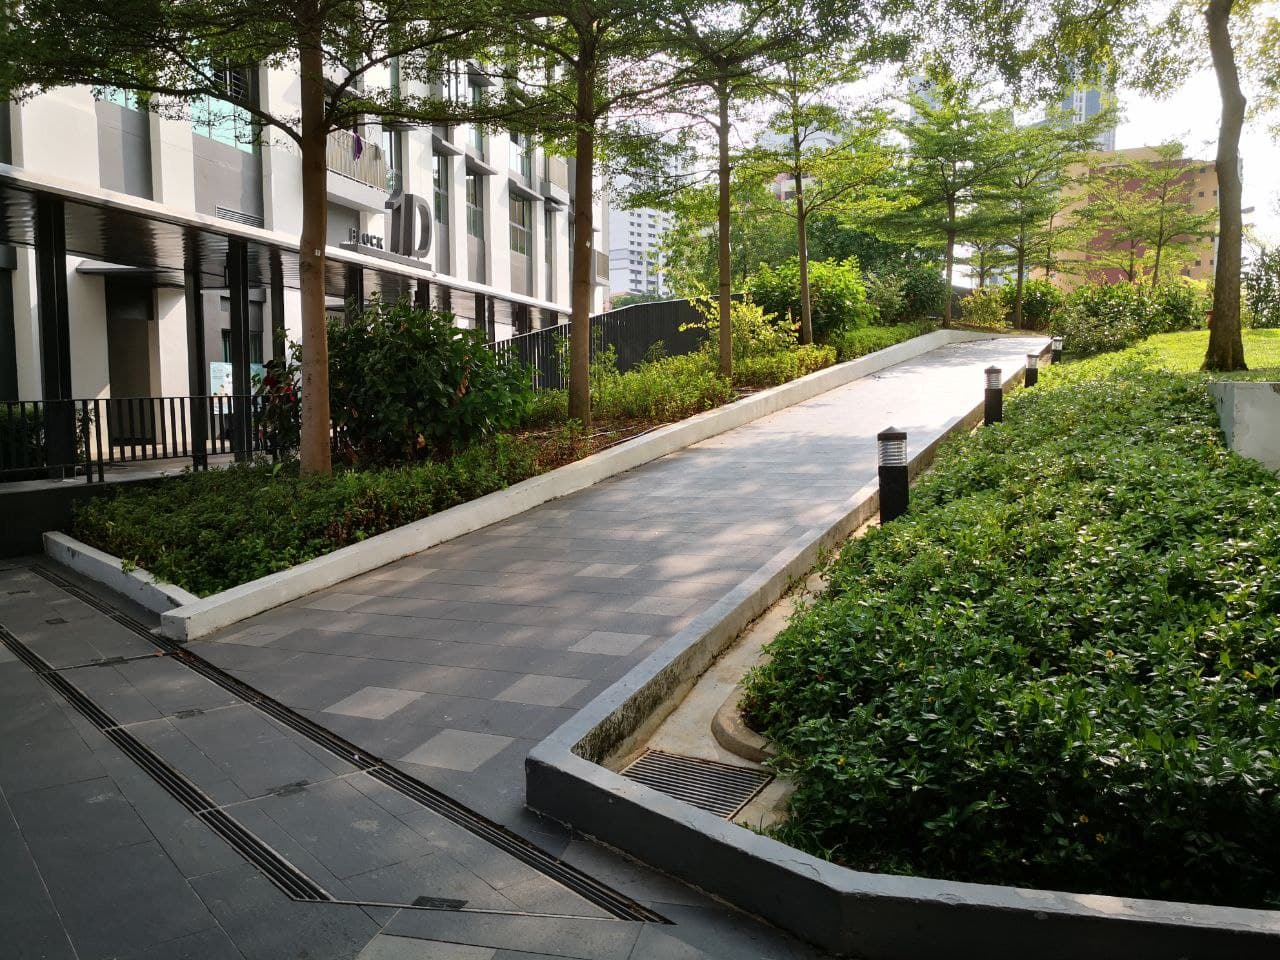slopes: (128, 307, 1112, 802)
